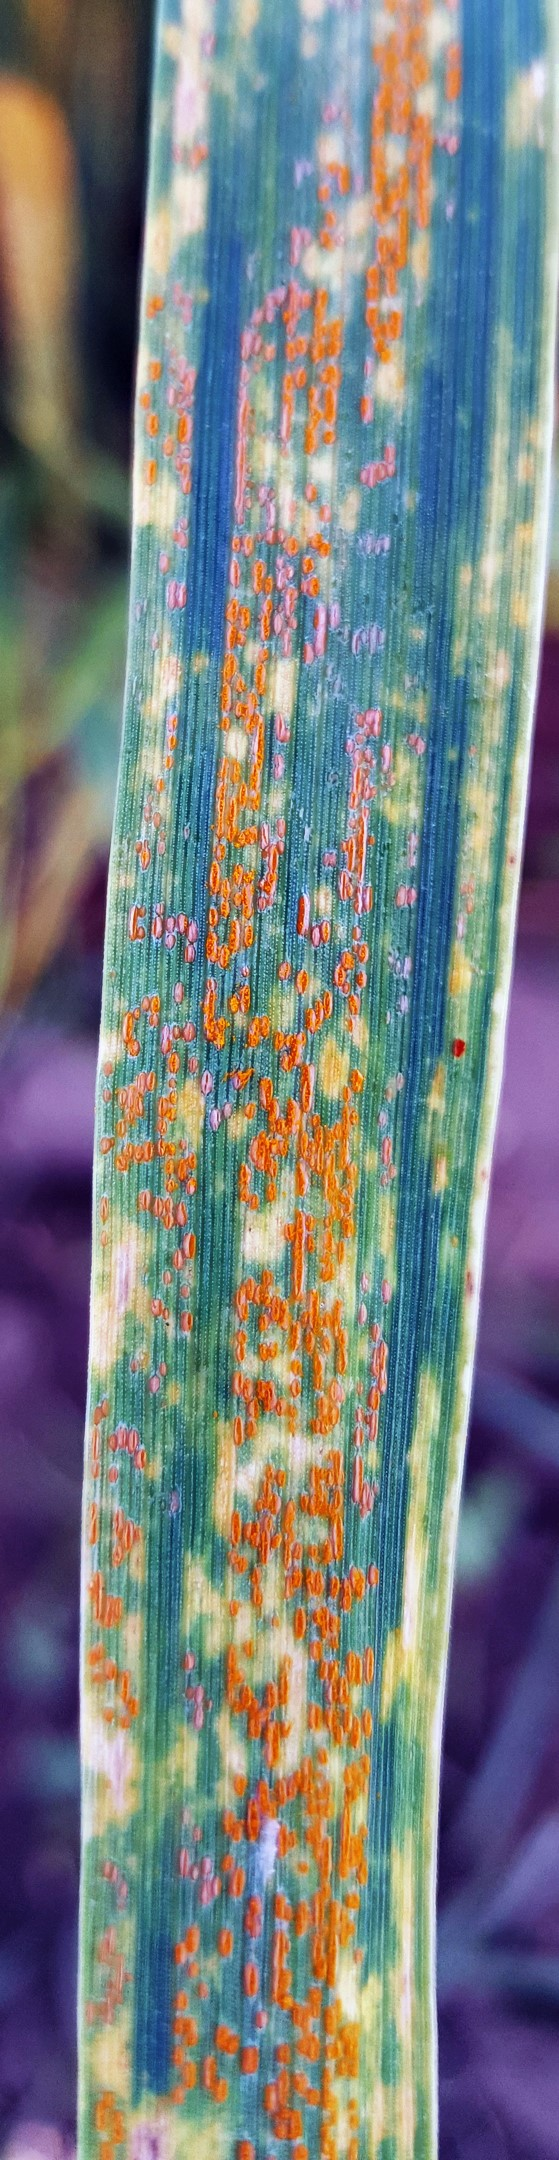Leaf Rust: (50, 52, 487, 2139)
